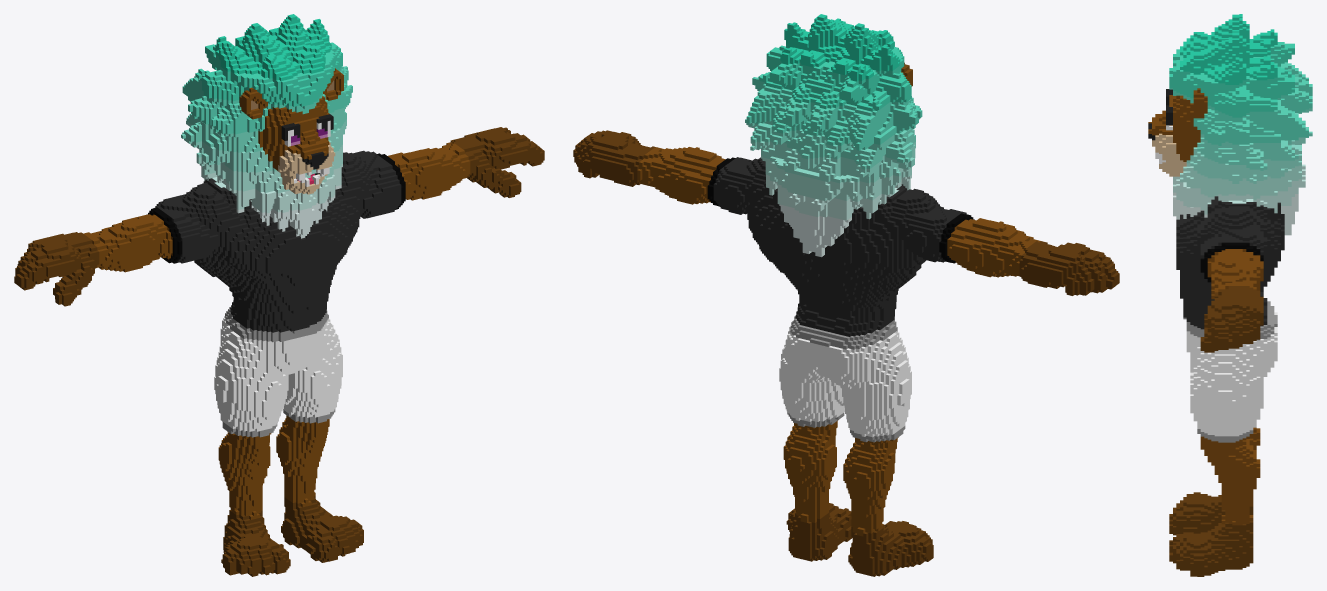
File: 897-C1qWWCM3.glb
The picture shows the model from 3 angles, left to right: view 1: azimuth 30°, elevation 25°; view 2: azimuth 150°, elevation 25°; view 3: azimuth 270°, elevation 25°; orthographic projection. The views are drawn at different scales.
Parts seen in each view (by area): view 1: open; view 2: open; view 3: open.
Part boxes in pixels (x1,y1,x2,y2): open: (14,14,544,576); open: (573,14,1119,576); open: (1148,14,1312,576).
Size of the model in its own units: 17.2 by 16.5 by 4.7.
5 materials, 5 textured.
